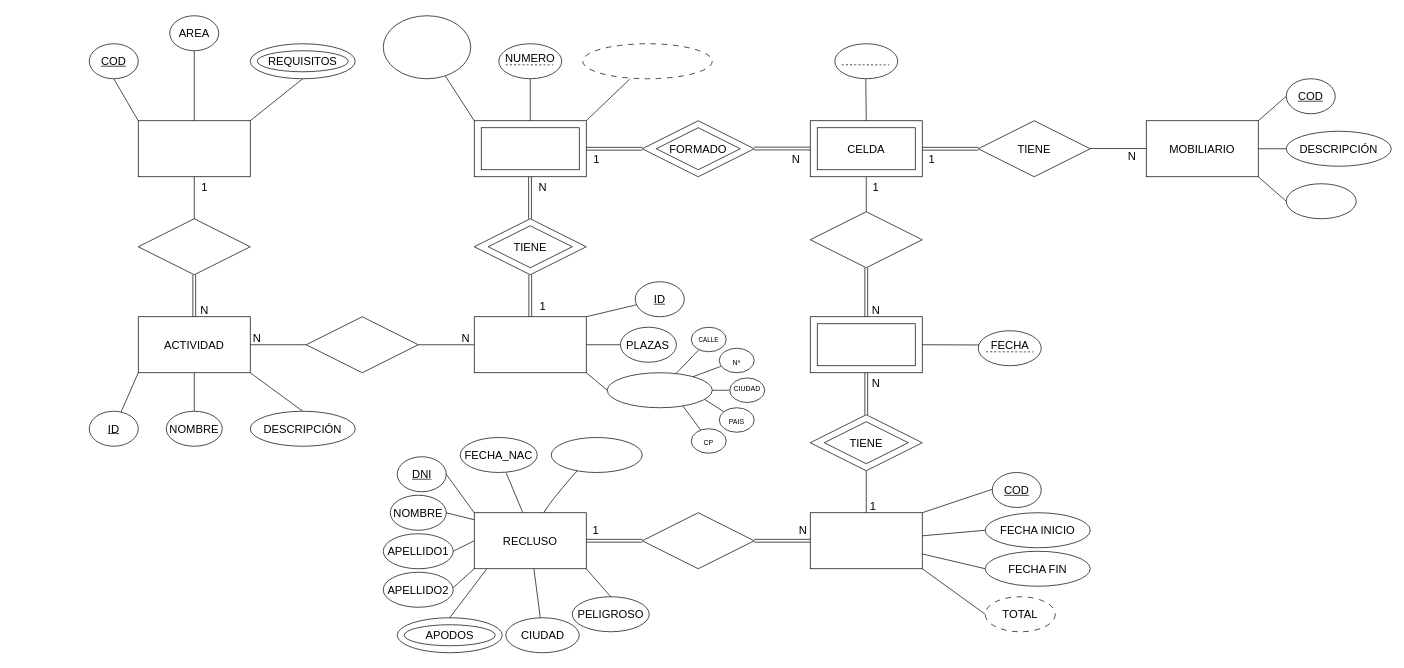
The diagram is 1404 pixels wide and 668 high, and some of its shapes have lost their labels. The centre of each missing label's shape, as x and y in pixels:
"AÑOS CARCEL" belongs at (596,454).
"CONDENA" belongs at (866,540).
"CUMPLE" belongs at (698,540).
"DIRECCIÓN" belongs at (659,390).
"EN" belongs at (866,239).
"ESTADO" belongs at (1321,201).
"MÓDULOS" belongs at (530,148).
"NIVEL DE SEGURIDAD" belongs at (427,47).
"Nº CELDA" belongs at (866,61).
"Nº FUNCIONARIOS" belongs at (647,61).
"OFERTA" belongs at (362,344).
"PERTENECE" belongs at (194,246).
"PRISIÓN" belongs at (530,344).
"ROTACIÓN" belongs at (866,344).
"TIPO DE ACTIVIDAD" belongs at (194,148).
